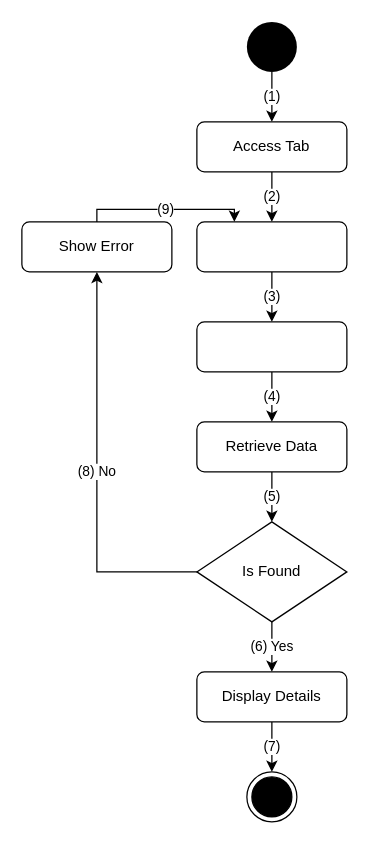
The diagram is 369 pixels wide and 844 high, and some of its shapes have lost their labels. The centre of each missing label's shape, as x and y in pixels:
Click Report: (271,346)
Display List: (271,246)
